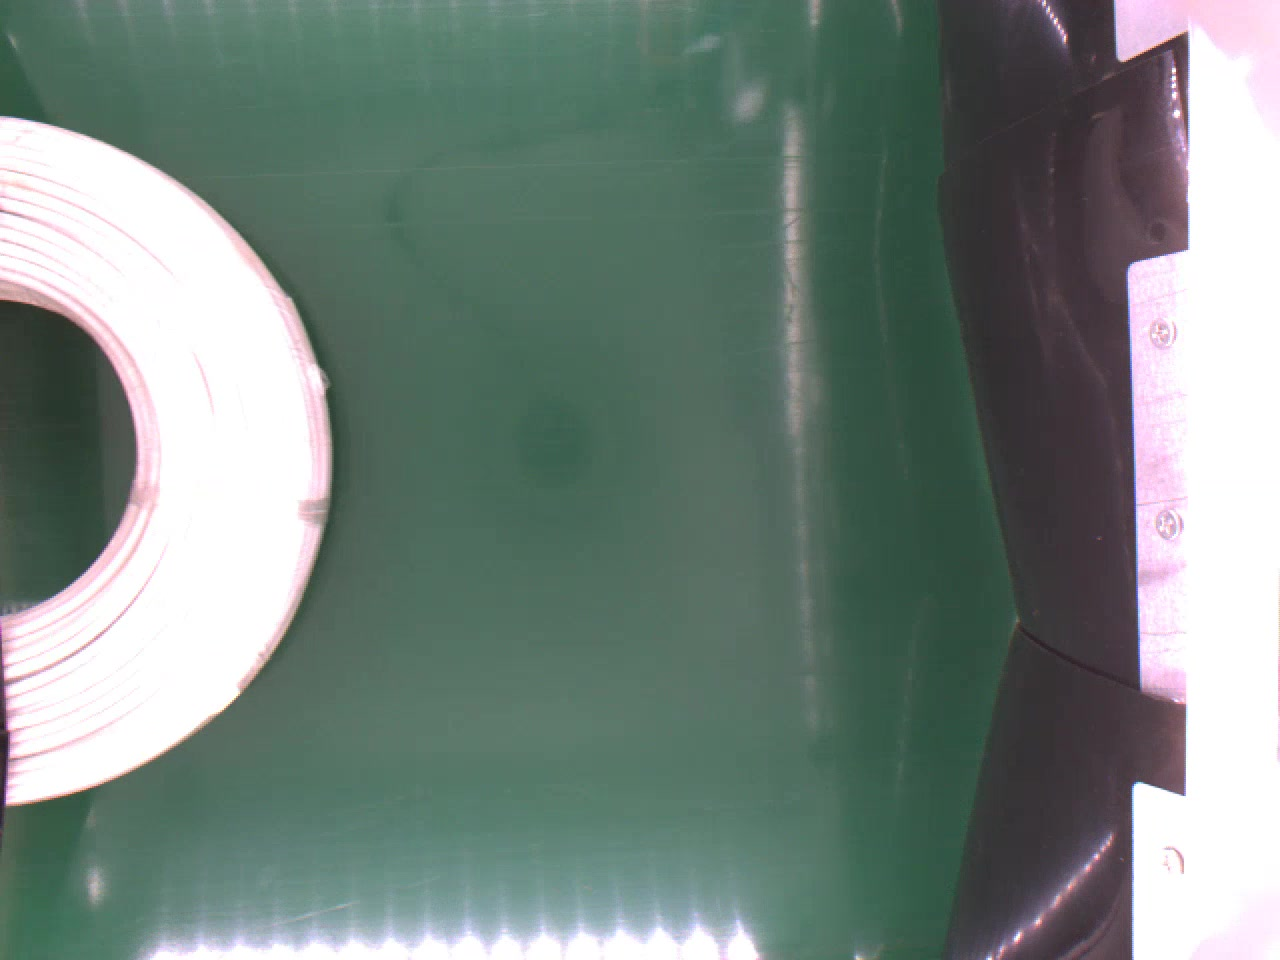white: (0, 114, 336, 808)
